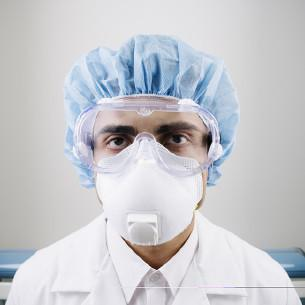OK: (90, 115, 222, 247)
